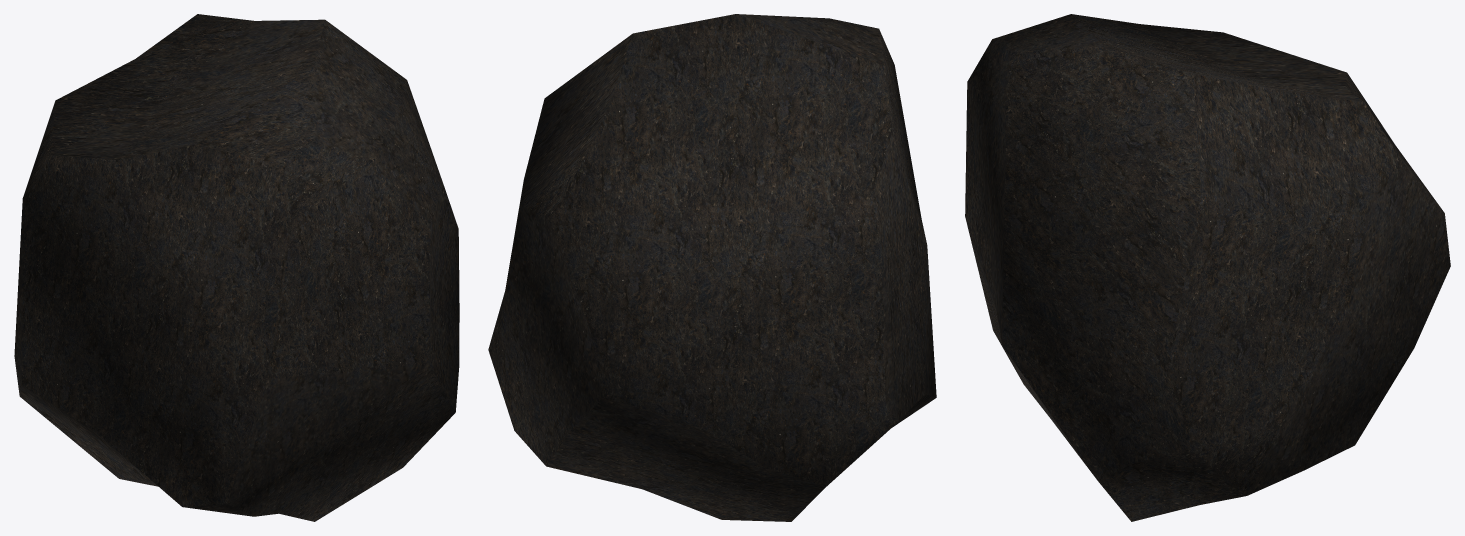
The model's file is rocher03.gltf.
3 renders of one model, left to right at view 1: azimuth 30°, elevation 25°; view 2: azimuth 150°, elevation 25°; view 3: azimuth 270°, elevation 25°, orthographic. The views are drawn at different scales.
Visible parts, largest first — view 1: rock02; view 2: rock02; view 3: rock02.
Part boxes in pixels (bbox=[...]): rock02: bbox=[14, 14, 459, 521]; rock02: bbox=[488, 14, 936, 521]; rock02: bbox=[965, 14, 1450, 521].
Size of the model in its own units: 8.23 by 8.72 by 8.47.
1 material, 1 textured.
